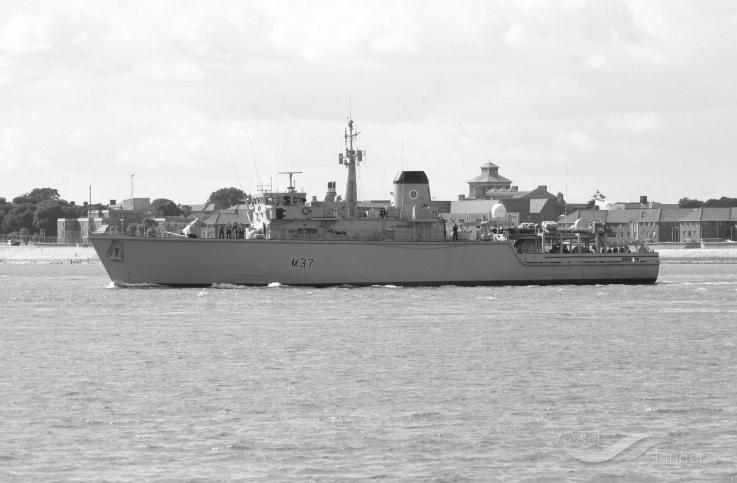OCR: (284, 247, 326, 272)
